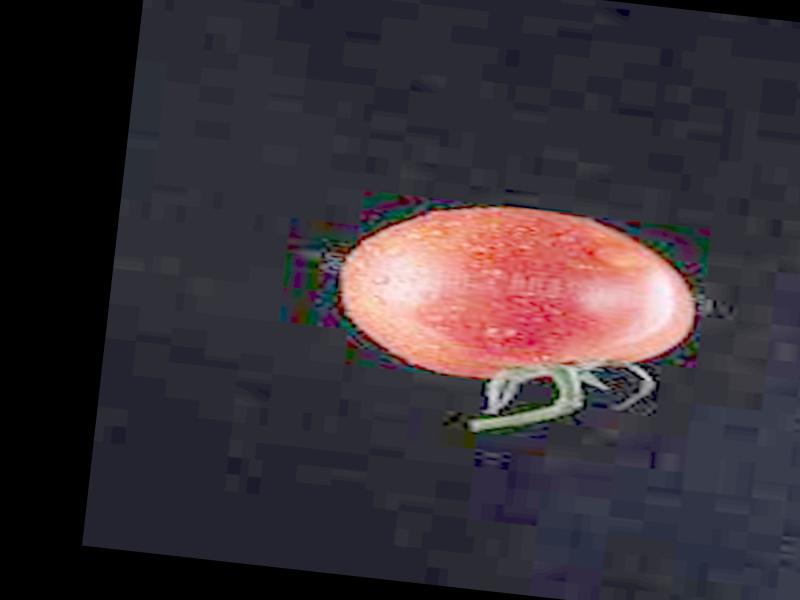Tomato: (330, 188, 702, 401)
